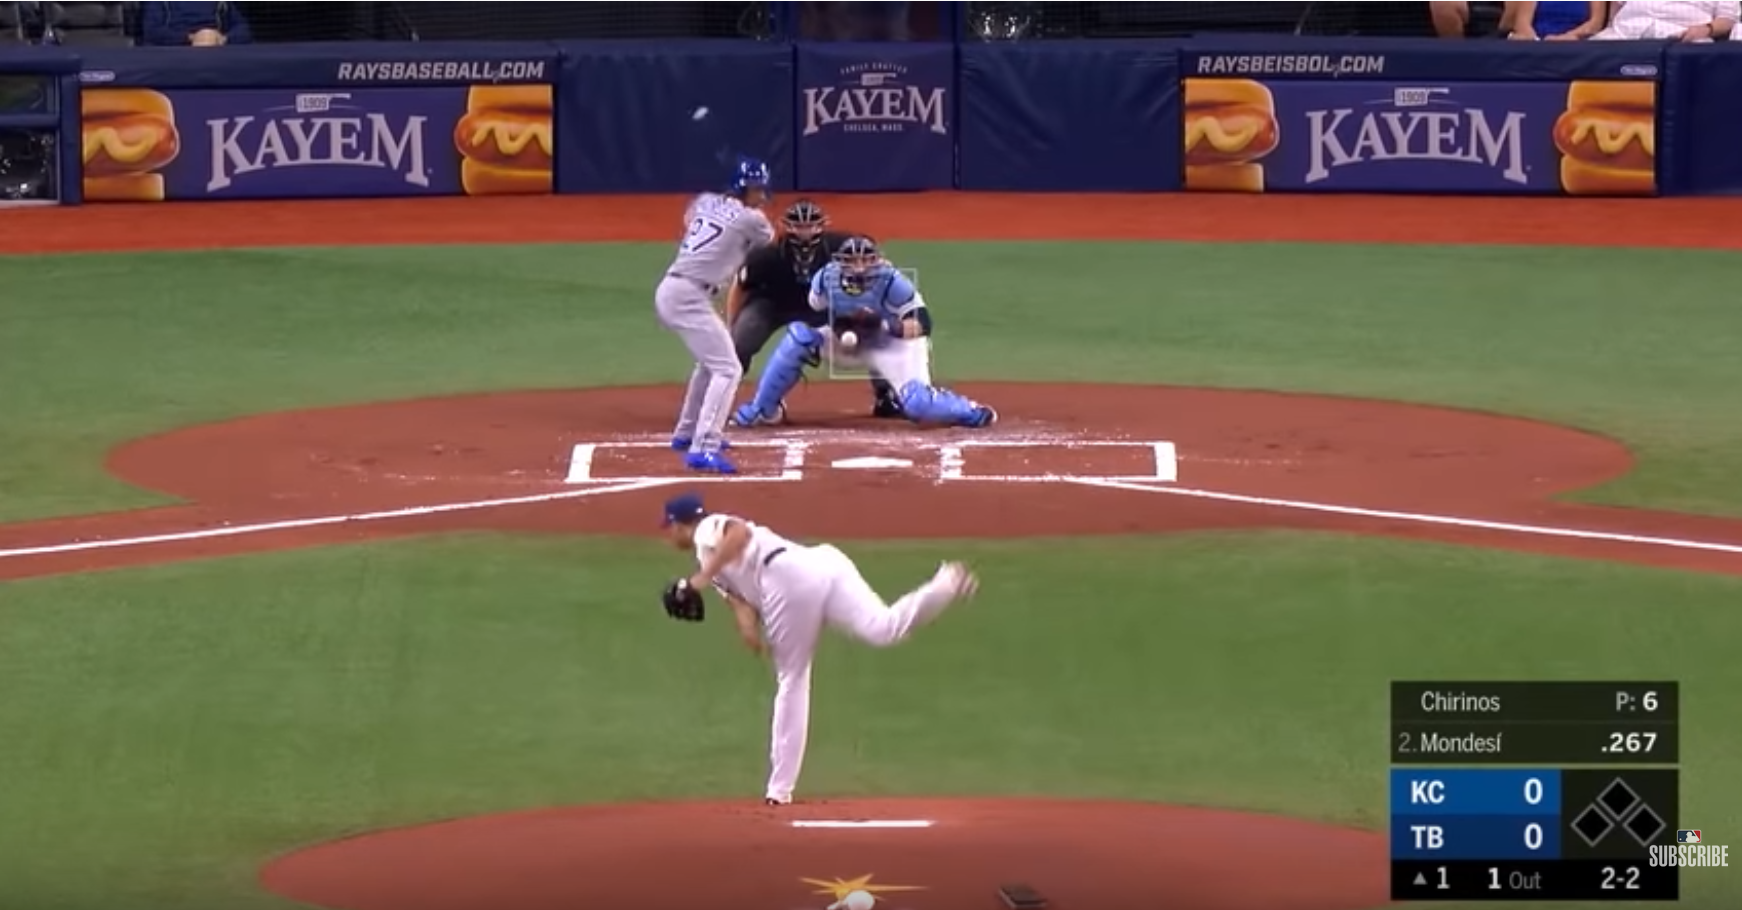ball: (839, 328, 858, 351)
